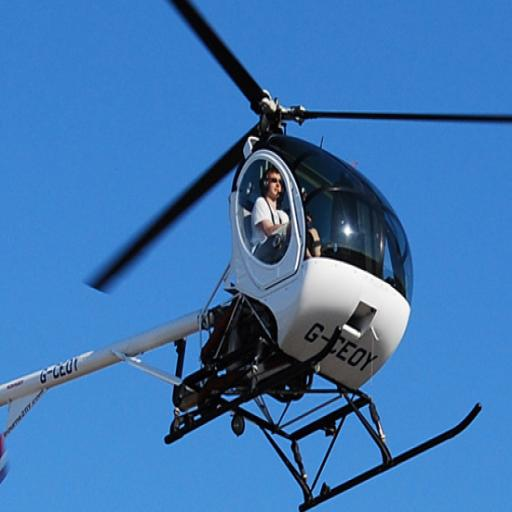helicopter: (2, 2, 512, 503)
